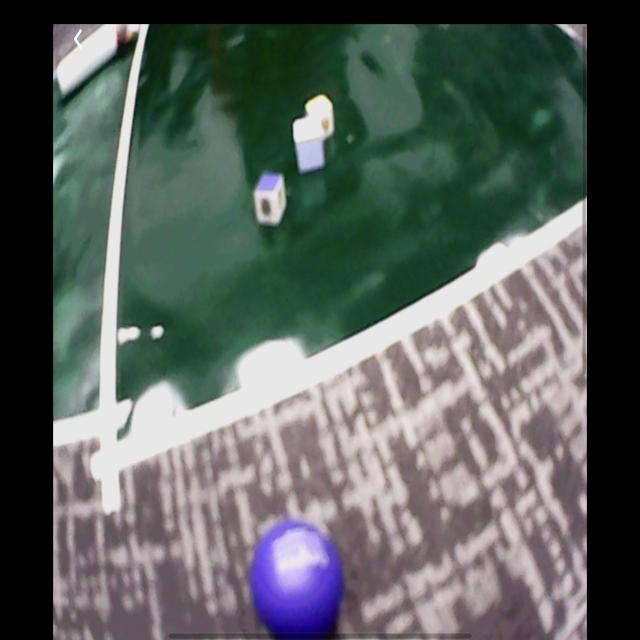ball: (250, 520, 344, 636)
